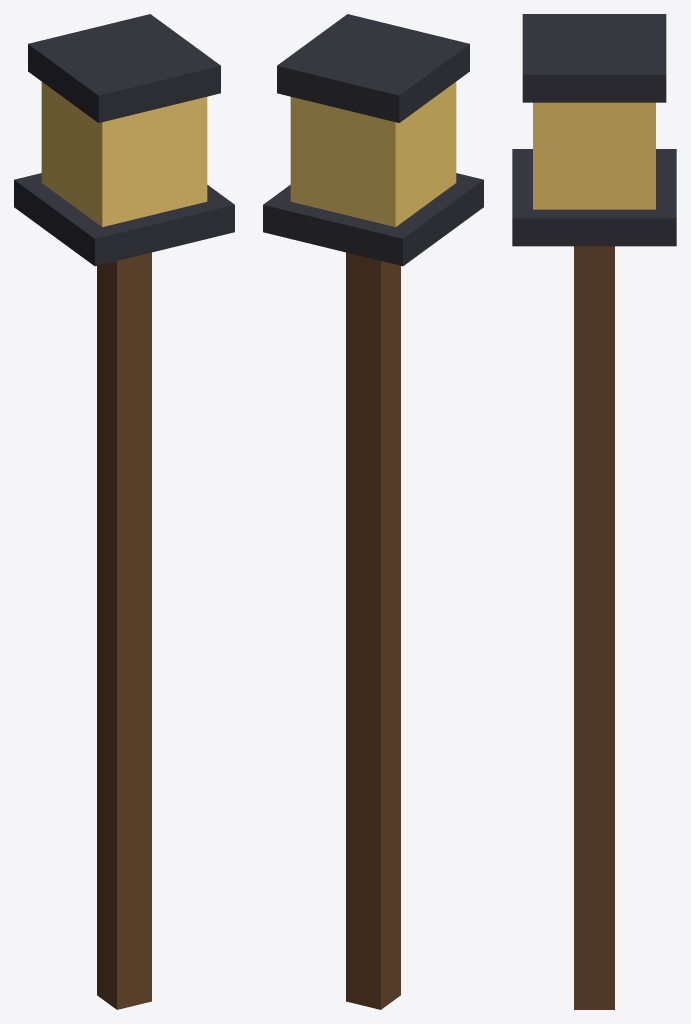
File: cad_lamp_post.obj
3 renders of one model, left to right at view 1: azimuth 30°, elevation 25°; view 2: azimuth 150°, elevation 25°; view 3: azimuth 270°, elevation 25°, orthographic.
Bounding box in the file's own units: 320 × 2060 × 320.
